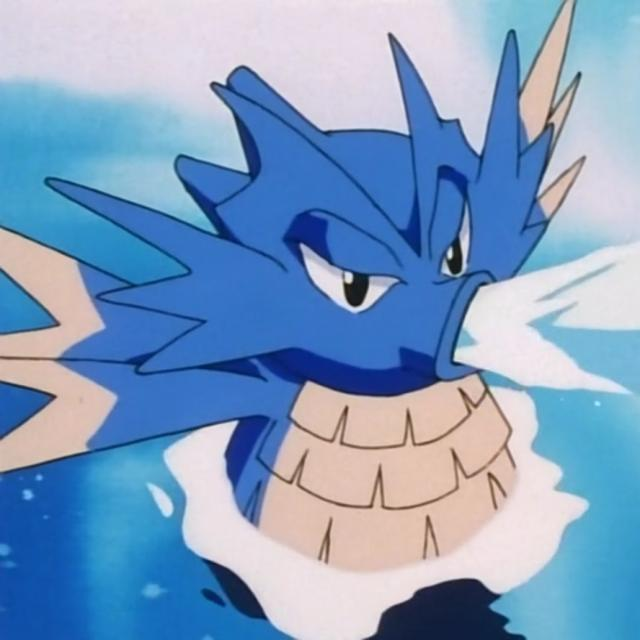Seadra: (126, 64, 587, 572)
